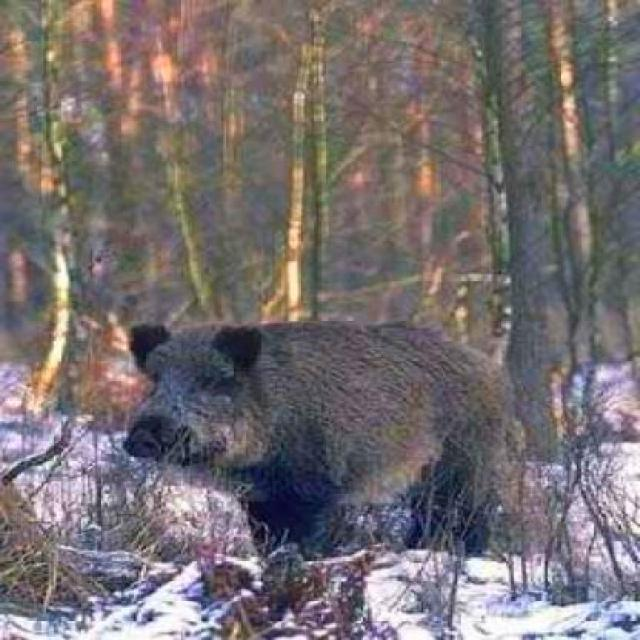Boar: (91, 295, 535, 603)
